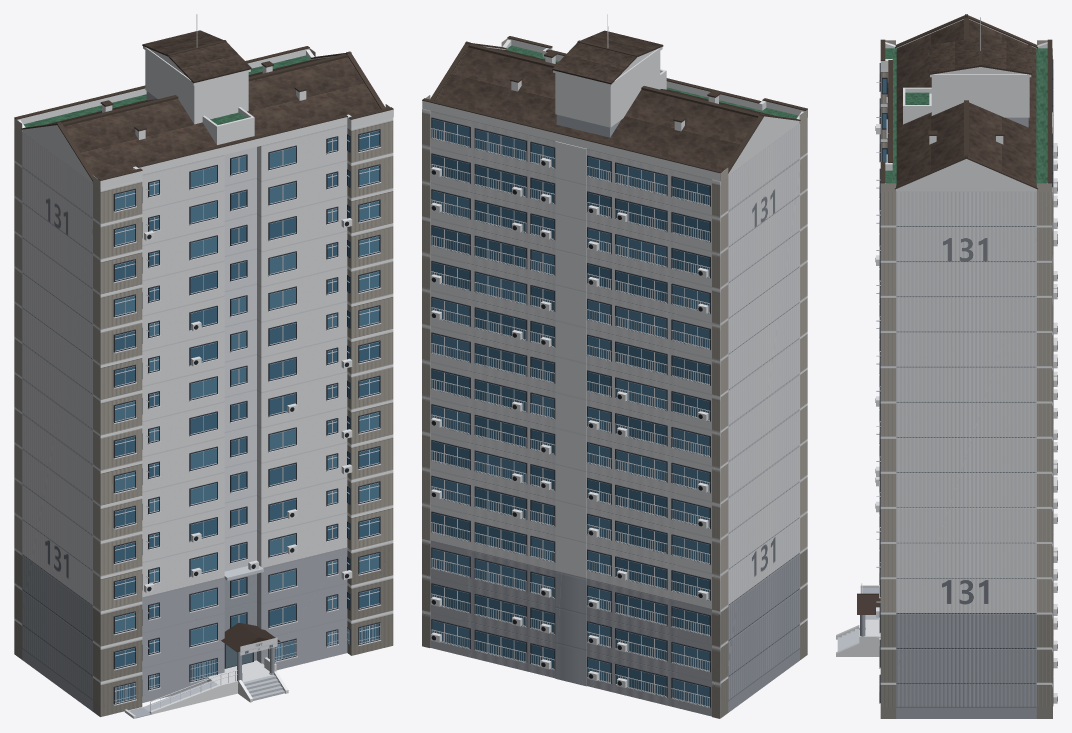
Rendered from place_행당대림131.glb.
The picture shows the model from 3 angles, left to right: view 1: azimuth 30°, elevation 25°; view 2: azimuth 150°, elevation 25°; view 3: azimuth 270°, elevation 25°; orthographic projection.
Visible parts, largest first — view 1: EndWall_Left_131, InnerWing_Unit2_Upper, InnerWing_Unit1_Upper, Gable_Roof_And_Penthouse, Merged_Window_Glass_Teal, OuterBay_Unit2_LBent_Upper, Merged_Window_Glass_Sky, Merged_Window_OuterFrames, OuterBay_Unit1_LBent_Upper, Merged_Window_InnerSashes, Center_Core_Upper, Central_Elevator_Penthouse (+11 smaller); view 2: EndWall_Left_131, Merged_Window_Glass_Teal, Merged_Window_Glass_Sky, Merged_Balcony_SilverRails, Gable_Roof_And_Penthouse, InnerWing_Unit1_Upper, InnerWing_Unit2_Upper, Rear_Center_Core_ShearWall, Merged_Window_OuterFrames, Merged_Window_InnerSashes, Central_Elevator_Penthouse, OuterBay_Unit1_LBent_Upper (+14 smaller); view 3: EndWall_Right_131, Gable_Roof_And_Penthouse, Central_Elevator_Penthouse, EndWall_GablePeak_Right, Merged_Window_OuterFrames, Merged_AC_Unit_Bodies, Entrance_Porch_131_1_2, Green_Urethane_Gutter_Rear, Green_Urethane_Gutter_Front, Merged_Balcony_SilverRails, OuterBay_Unit1_LBent_Upper, Rear_CornerPilaster_1_Upper (+1 smaller).
Boxes of the visible parts, bbox=[...] form: EndWall_Left_131: bbox=[14, 127, 100, 716]; InnerWing_Unit2_Upper: bbox=[257, 125, 347, 567]; InnerWing_Unit1_Upper: bbox=[142, 155, 224, 597]; Gable_Roof_And_Penthouse: bbox=[14, 46, 393, 188]; Merged_Window_Glass_Teal: bbox=[115, 131, 379, 702]; OuterBay_Unit2_LBent_Upper: bbox=[347, 117, 393, 550]; Merged_Window_Glass_Sky: bbox=[115, 136, 379, 659]; Merged_Window_OuterFrames: bbox=[113, 129, 380, 704]; OuterBay_Unit1_LBent_Upper: bbox=[28, 136, 142, 611]; Merged_Window_InnerSashes: bbox=[113, 130, 381, 705]; Center_Core_Upper: bbox=[224, 147, 256, 571]; Central_Elevator_Penthouse: bbox=[142, 14, 254, 144]; EndWall_Left_131: bbox=[720, 118, 807, 717]; Merged_Window_Glass_Teal: bbox=[432, 155, 709, 695]; Merged_Window_Glass_Sky: bbox=[432, 119, 709, 706]; Merged_Balcony_SilverRails: bbox=[431, 128, 710, 708]; Gable_Roof_And_Penthouse: bbox=[422, 36, 807, 181]; InnerWing_Unit1_Upper: bbox=[590, 149, 677, 600]; InnerWing_Unit2_Upper: bbox=[465, 119, 552, 569]; Rear_Center_Core_ShearWall: bbox=[555, 141, 586, 686]; Merged_Window_OuterFrames: bbox=[431, 117, 710, 708]; Merged_Window_InnerSashes: bbox=[432, 119, 709, 707]; Central_Elevator_Penthouse: bbox=[552, 14, 666, 137]; OuterBay_Unit1_LBent_Upper: bbox=[677, 123, 799, 610]; EndWall_Right_131: bbox=[880, 191, 1051, 718]; Gable_Roof_And_Penthouse: bbox=[880, 14, 1052, 191]; Central_Elevator_Penthouse: bbox=[903, 17, 1031, 127]; EndWall_GablePeak_Right: bbox=[885, 159, 1047, 191]; Merged_Window_OuterFrames: bbox=[879, 59, 1053, 705]; Merged_AC_Unit_Bodies: bbox=[876, 124, 1057, 703]; Entrance_Porch_131_1_2: bbox=[836, 585, 880, 656]; Green_Urethane_Gutter_Rear: bbox=[1036, 48, 1047, 185]; Green_Urethane_Gutter_Front: bbox=[890, 48, 896, 185]; Merged_Balcony_SilverRails: bbox=[1053, 69, 1053, 695]; OuterBay_Unit1_LBent_Upper: bbox=[880, 69, 888, 161]; Rear_CornerPilaster_1_Upper: bbox=[1052, 187, 1052, 613].
Bounding box in the file's own units: 24.86 × 51.05 × 16.3.
34 materials, 13 textured.
